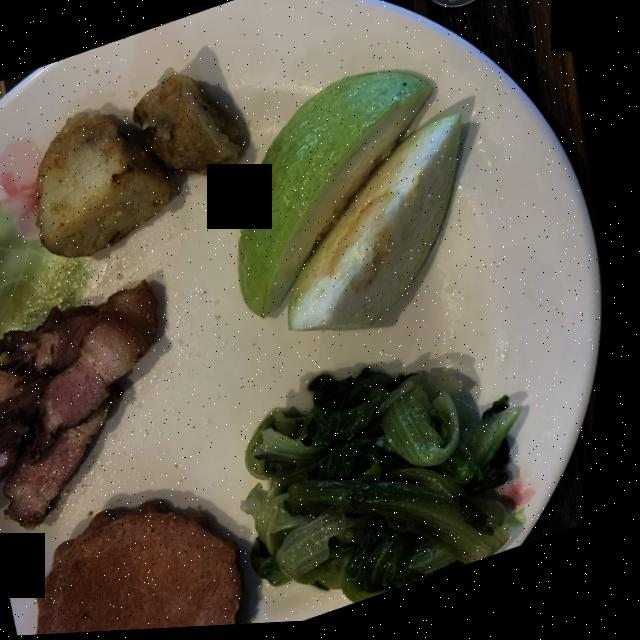Spam: (50, 503, 256, 636)
coin: (428, 0, 483, 13)
fried potato: (41, 70, 244, 259)
grilled pork: (0, 282, 165, 528)
guava -sliced-: (244, 75, 465, 334)
mustard greens: (254, 372, 531, 607)
